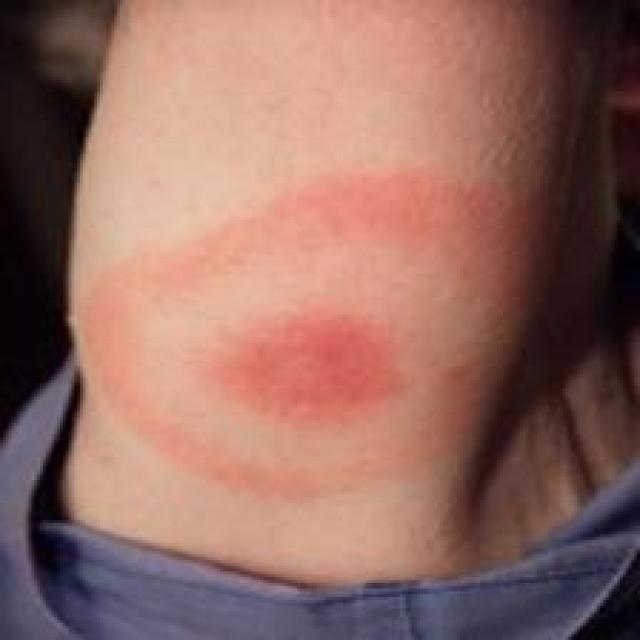kene: (56, 101, 635, 525)
